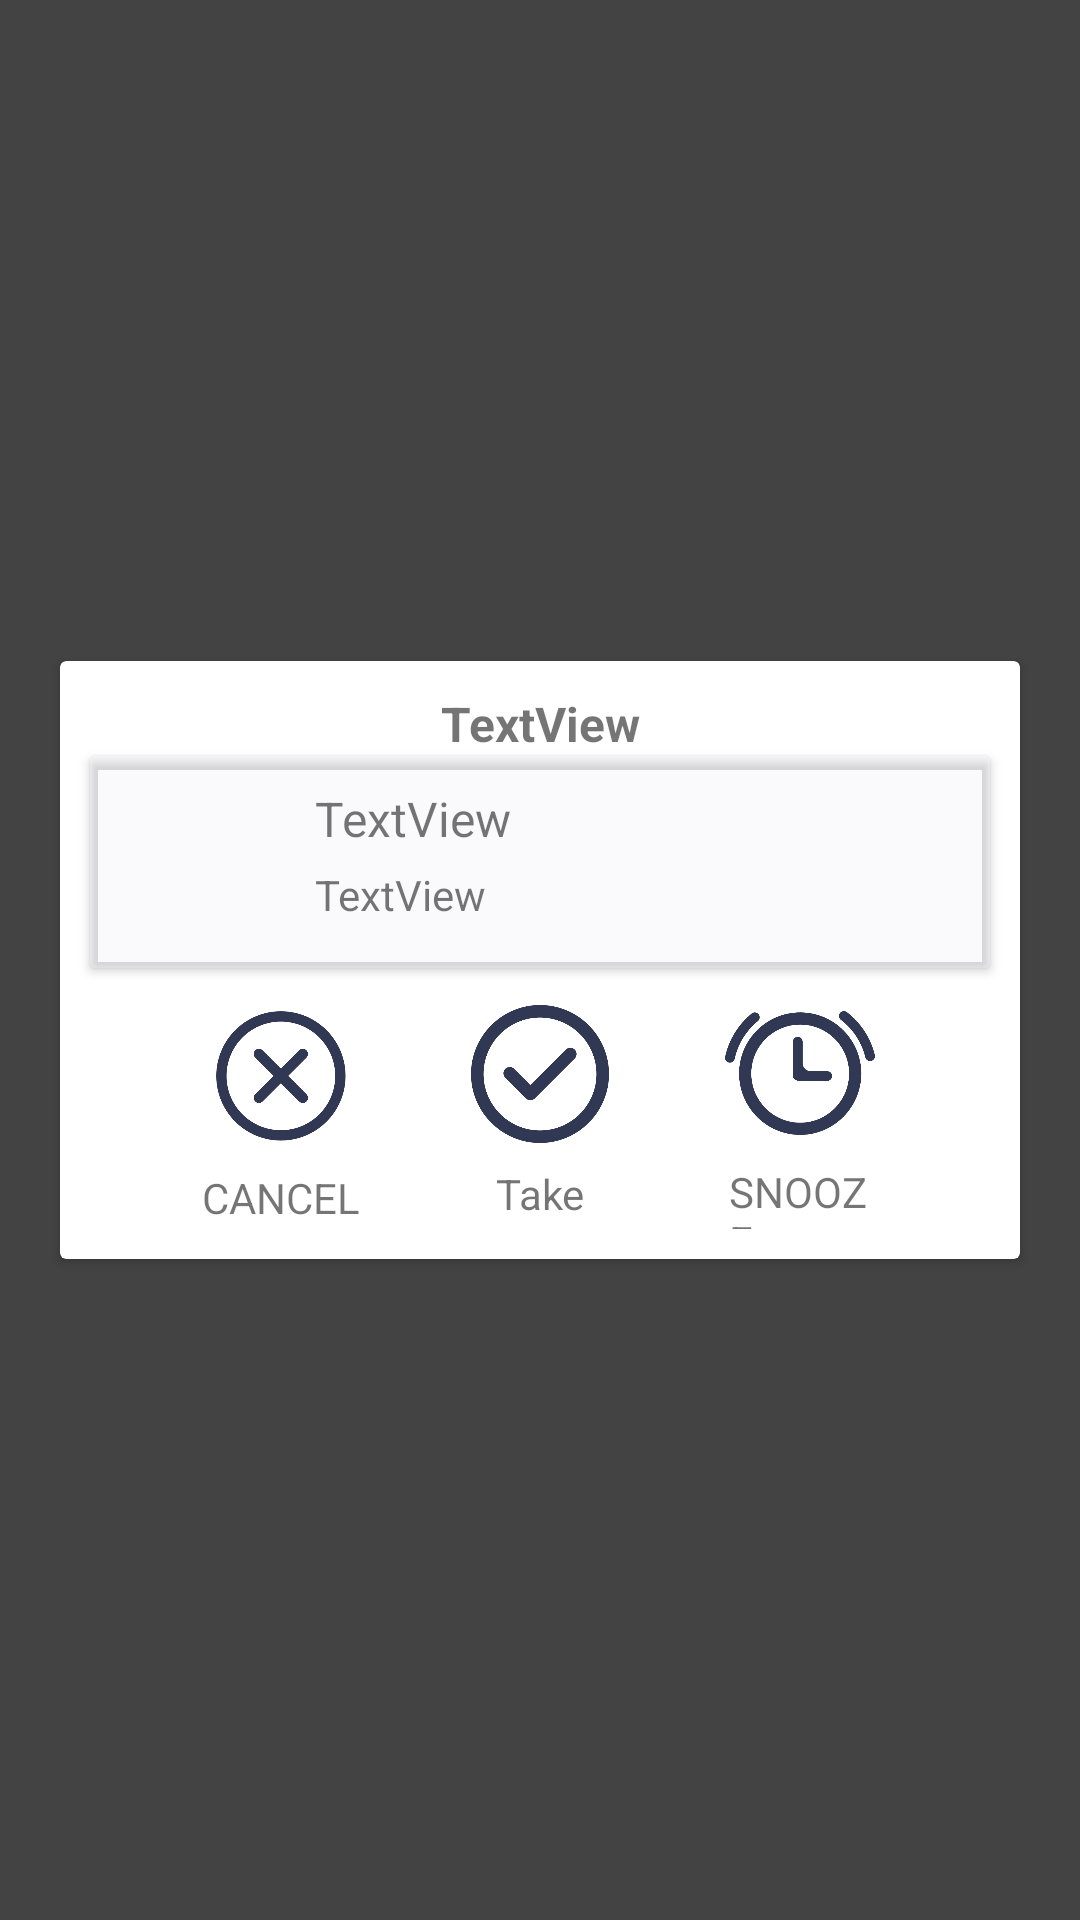

Where to tap for icons on this 1080 x 1920 app screen, as (x,y):
alarmm: (800,1073)
check: (540,1074)
